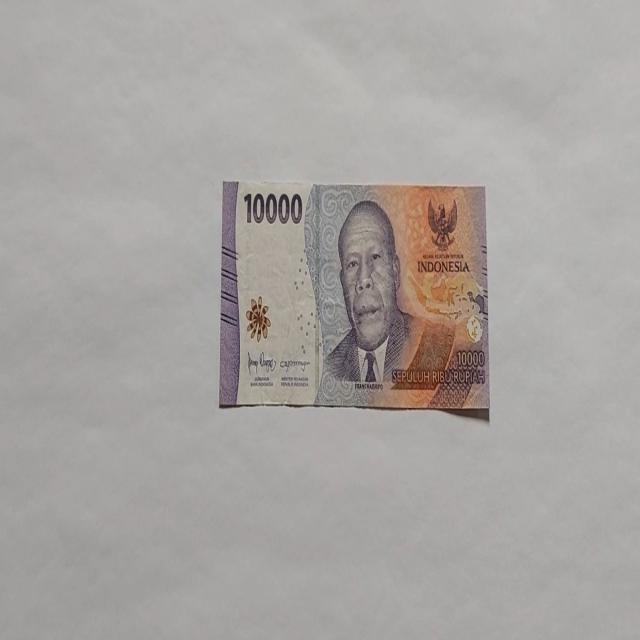sepuluh ribu rupiah: (218, 178, 490, 412)
